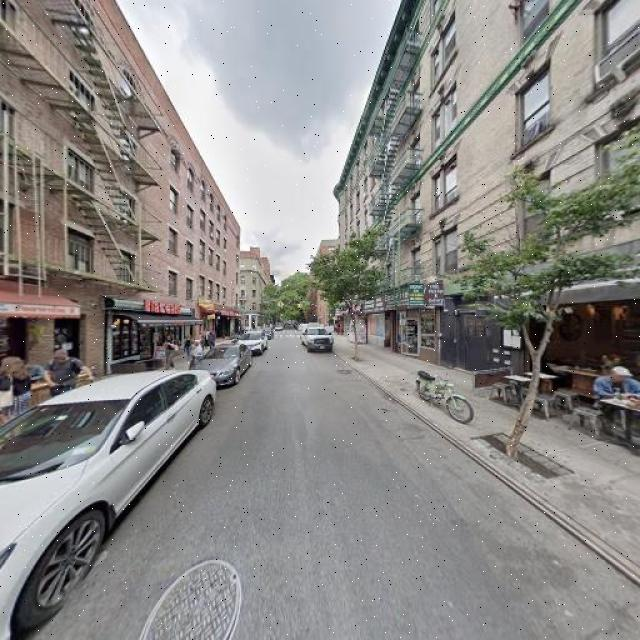Building: (342, 1, 640, 433), (1, 1, 229, 399)
